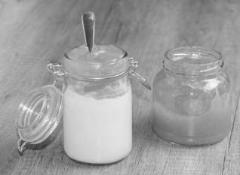glass: (16, 45, 232, 167)
